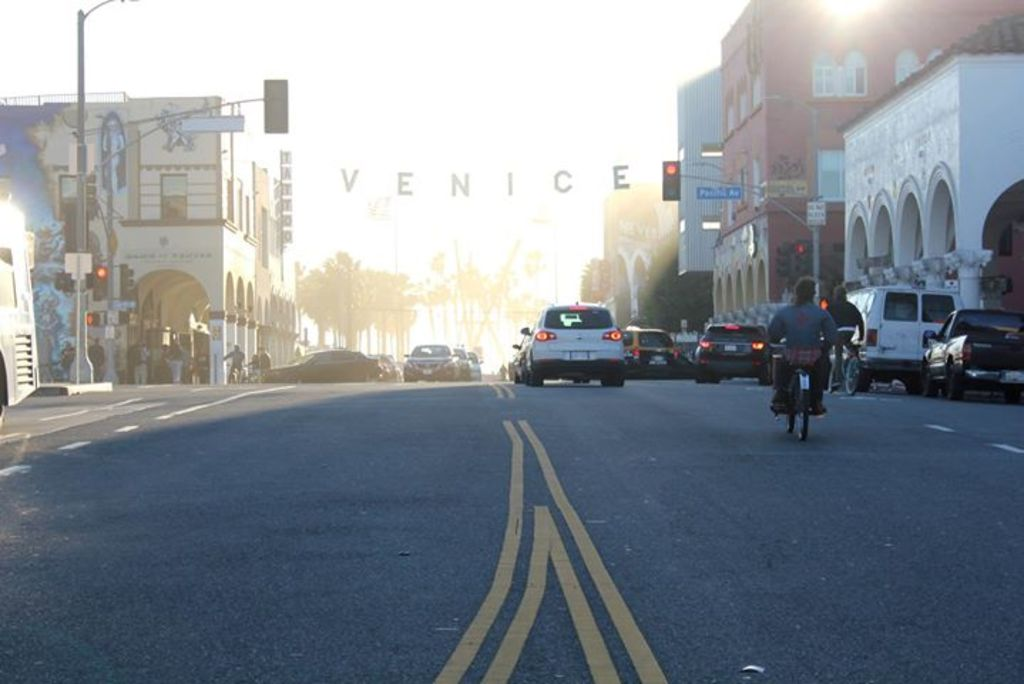Car: (521, 297, 645, 383), (257, 349, 491, 390), (696, 326, 777, 403), (632, 329, 685, 380)
